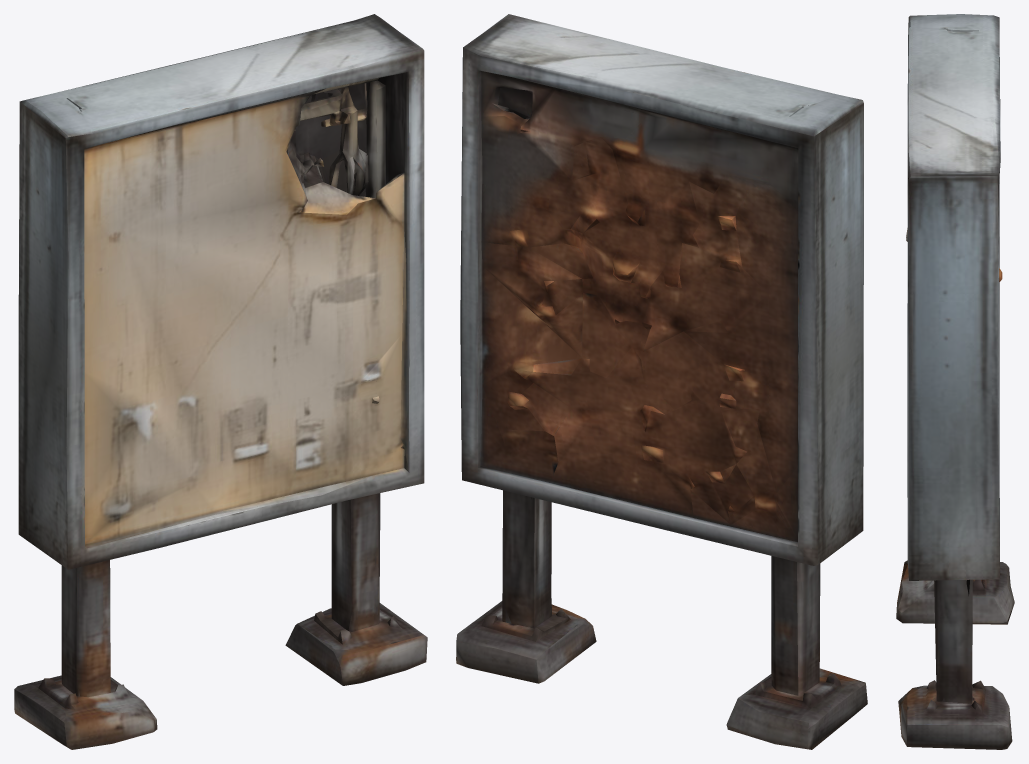
The model's file is lightbox.glb.
The picture shows the model from 3 angles, left to right: view 1: azimuth 30°, elevation 25°; view 2: azimuth 150°, elevation 25°; view 3: azimuth 270°, elevation 25°; orthographic projection. The views are drawn at different scales.
Visible parts, largest first — view 1: world; view 2: world; view 3: world.
Part boxes in pixels (x1,y1,x2,y2): world: (14, 14, 427, 749); world: (456, 14, 867, 749); world: (896, 14, 1014, 749).
Size of the model in its own units: 1.66 by 2.7 by 0.5053.
Materials: 1 (1 with a texture image).
